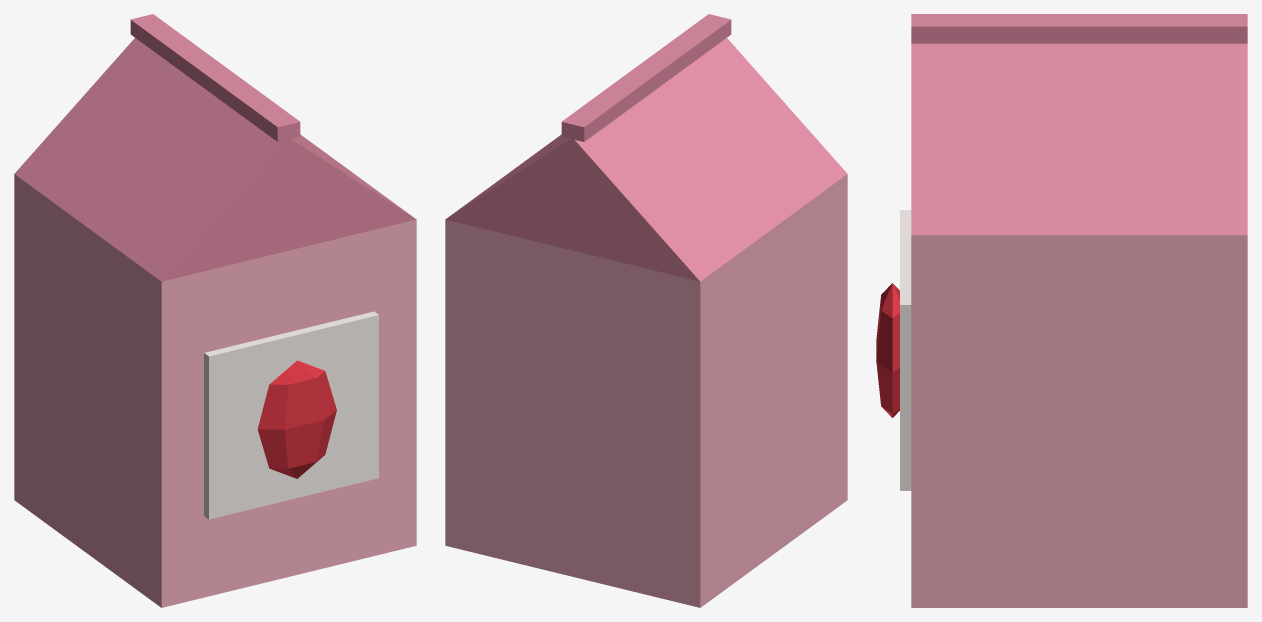
File: Food_StrawberryMilk.obj
The picture shows the model from 3 angles, left to right: view 1: azimuth 30°, elevation 25°; view 2: azimuth 150°, elevation 25°; view 3: azimuth 270°, elevation 25°; orthographic projection. The views are drawn at different scales.
Bounding box in the file's own units: 0.9 × 1.52 × 0.9933.
